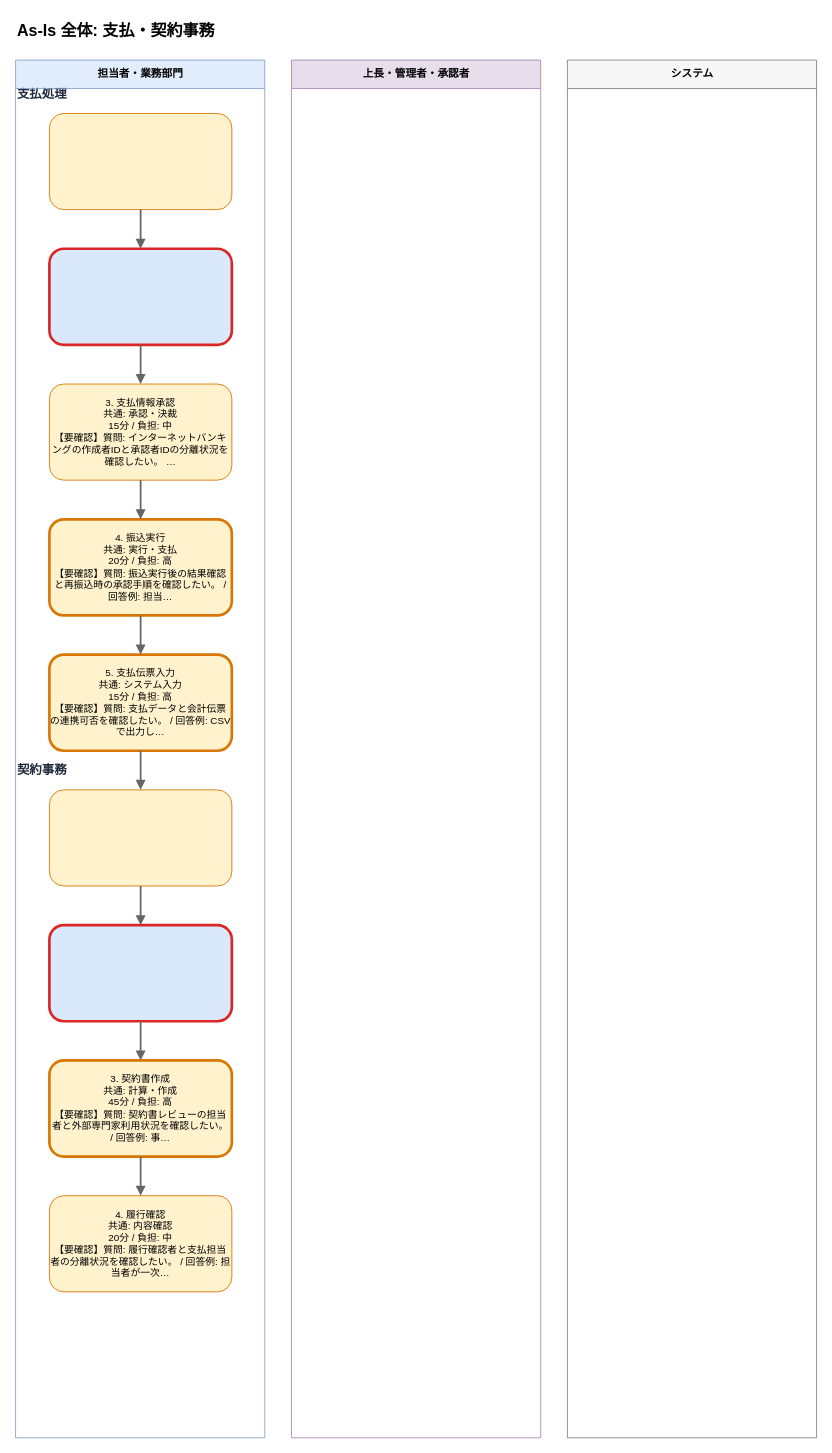
This 832x1453 diagram has some shape labels left out. The centre of each missing label's shape, as x and y in pixels:
"1. 契約種類確認 共通: 見積・契約 20分 / 負担: 中 【要確認】質問: 契約金額別の判断基準表が整備されているか確認したい。 / 回答例: 担当者…" goes at [140,837].
"1. 購入・支払起案 共通: 受付・起案 20分 / 負担: 中 【要確認】質問: 少額支払の事前承認省略ルールを確認したい。 / 回答例: 担当者が作成し、…" goes at [140,161].
"2. 見積徴取・比較 共通: 見積・契約 40分 / 負担: 高" goes at [140,972].
"2. 請求書確認 共通: 内容確認 25分 / 負担: 高" goes at [140,296].
